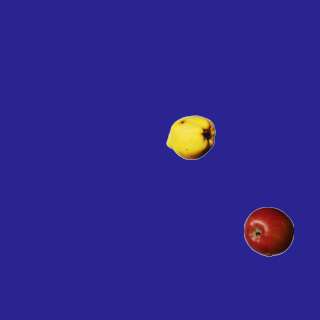Apple Braeburn: (243, 206, 293, 256)
Quince: (165, 112, 215, 162)
